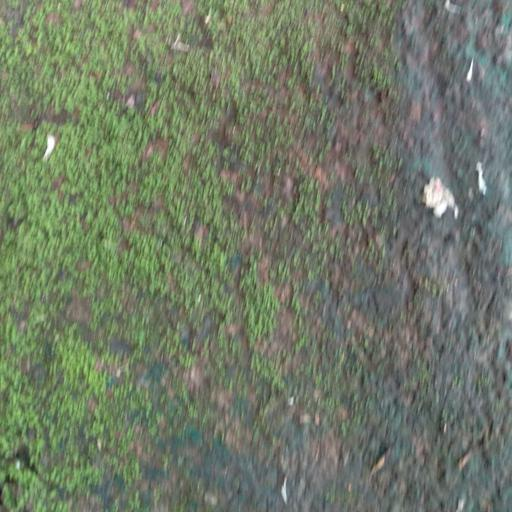algae: (1, 0, 420, 474)
